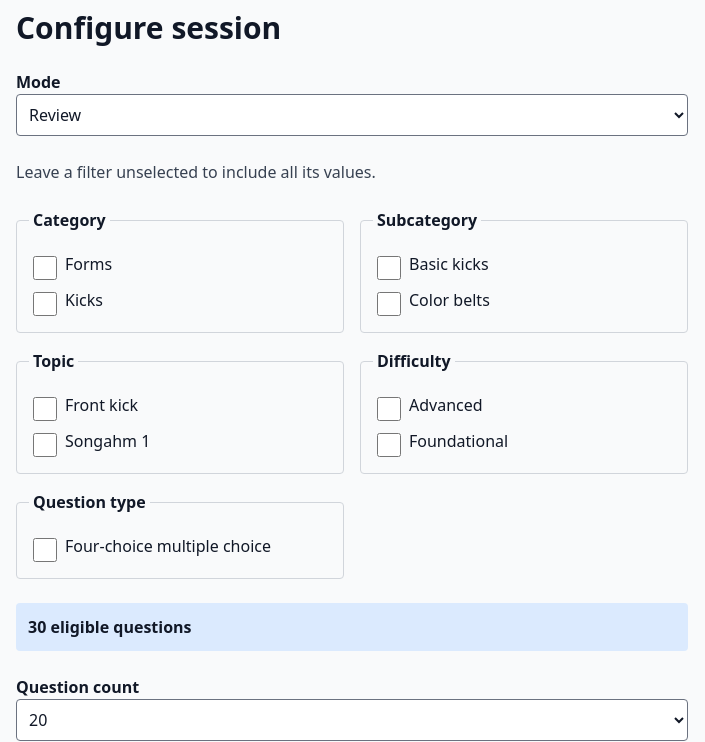
session configuration › supports multiple categories and cascades subcategories into topics
The image size is (705, 742).
Click the checkbox labelled "Kicks".
click(45, 304)  # box [33,292,57,316]
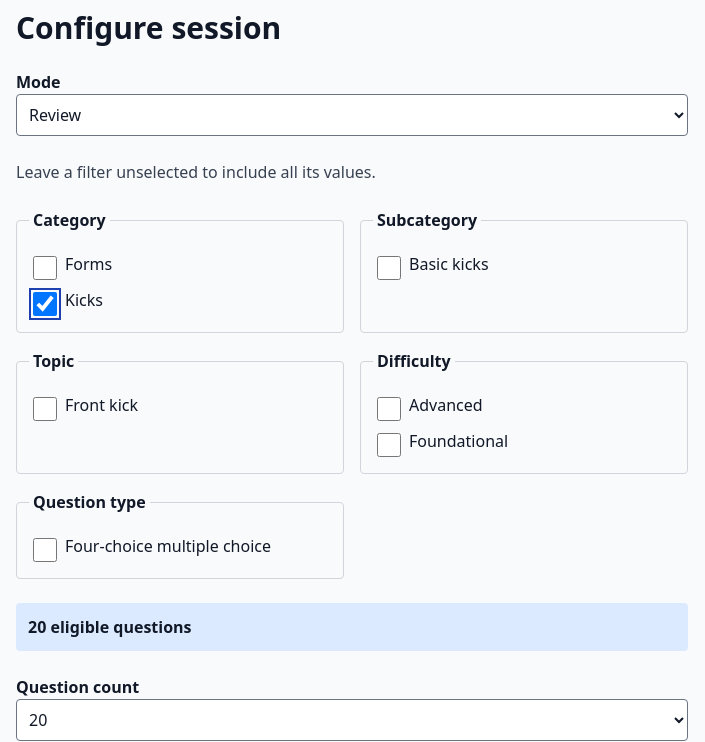
Click the checkbox labelled "Forms".
click(45, 268)  # box [33,256,57,280]
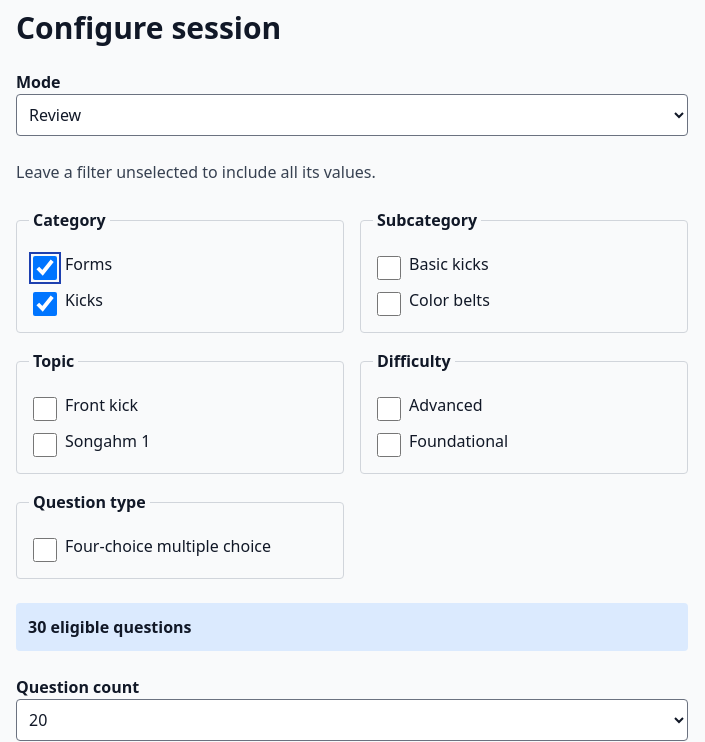
Click the checkbox labelled "Songahm 1".
click(45, 445)  # box [33,433,57,457]
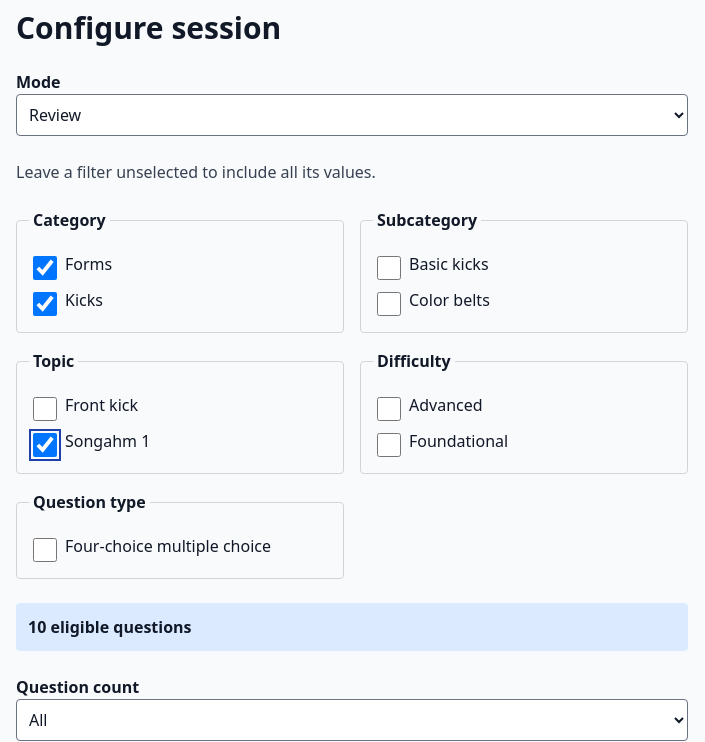
Click the checkbox labelled "Basic kicks".
click(389, 268)  # box [377,256,401,280]
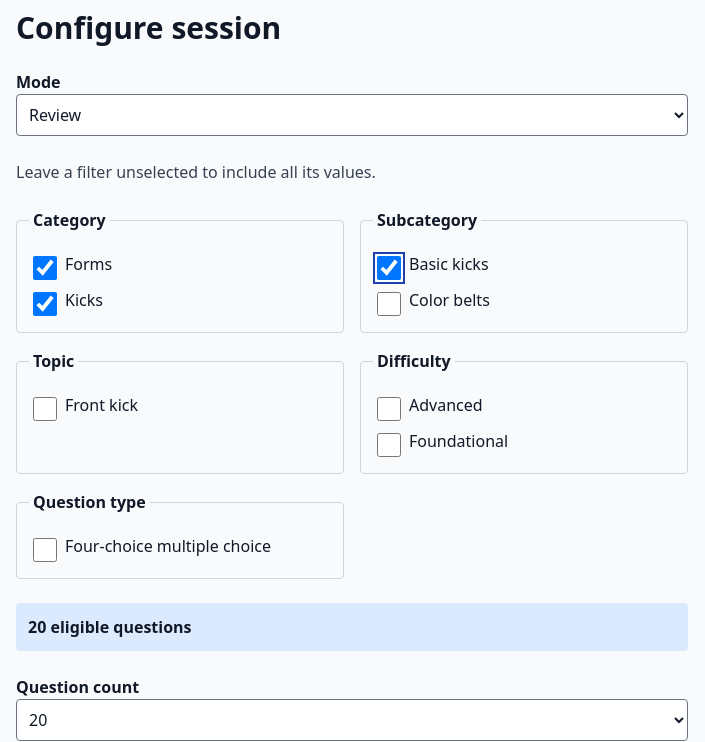
Now the label labelled "Songahm 1" is gone
Now the message reads "20 eligible questions", box [16,603,688,651]
